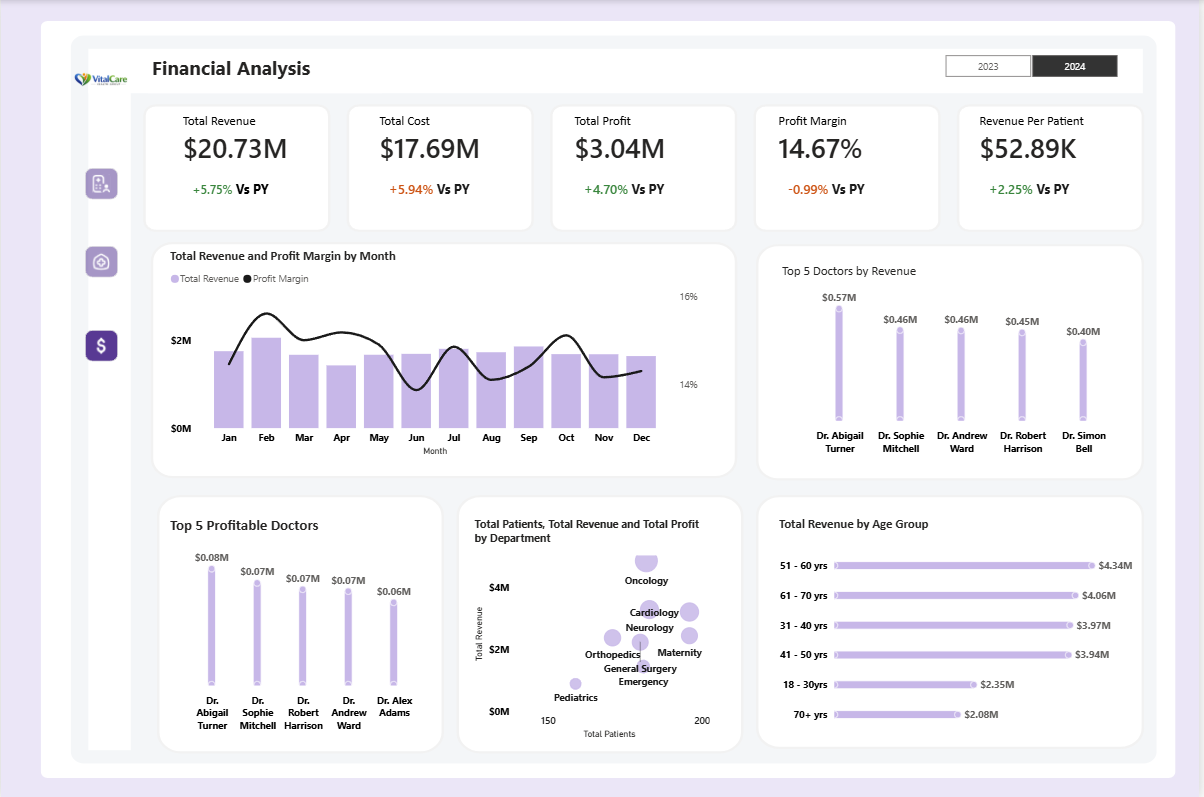

What the dashboard file says about the page in this screenshot:
{"tool":"powerbi","page":{"name":"Financial Analysis","canvas":[1500,1000],"ordinal":2},"visuals":[{"type":"actionButton","box":[105.1,210.3,41.3,39.4],"z":0},{"type":"actionButton","box":[105.1,307.9,41.3,39.4],"z":1000},{"type":"actionButton","box":[105.1,413,41.3,39.4],"z":2000},{"type":"image","box":[83.7,62.8,83.7,80],"z":3000},{"type":"slicer","fields":{"Values":["Dim Date.Year"]},"box":[1156.5,62,264.7,41.3],"z":3002},{"type":"cardVisual","fields":{"Data":["Measures_Table.Total Revenue"]},"box":[206.5,131.4,193.4,146.4],"z":3003},{"type":"cardVisual","fields":{"Data":["Measures_Table.Profit Margin"]},"box":[972.5,131.4,184,146.4],"z":3004},{"type":"cardVisual","fields":{"Data":["Measures_Table.Revenue Per Patient"]},"box":[1203.4,131.4,200.9,146.4],"z":3005},{"type":"cardVisual","fields":{"Data":["Measures_Table.Total Profit"]},"box":[696.5,142.7,195.2,135.2],"z":3006},{"type":"cardVisual","fields":{"Data":["Measures_Table.Total Cost"]},"box":[452.4,131.4,204.6,146.4],"z":3007},{"type":"lineStackedColumnComboChart","fields":{"Category":["Dim Date.Month"],"Y":["Measures_Table.Total Revenue"],"Y2":["Measures_Table.Profit Margin"]},"box":[206.5,309.8,672.1,264.7],"z":3008},{"type":"clusteredBarChart","fields":{"Category":["Dim Patient.Age Group"],"Y":["Measures_Table.Total Revenue"]},"box":[968.7,645.8,452.4,283.5],"z":3009},{"type":"clusteredColumnChart","title":"Top 5 Doctors by Revenue","fields":{"Category":["Dim Doctor.DoctorName"],"Y":["Measures_Table.Total Revenue"]},"box":[972.5,328.5,448.7,247.8],"z":3010},{"type":"clusteredColumnChart","title":"Top 5 Profitable Doctors","fields":{"Category":["Dim Doctor.DoctorName"],"Y":["Measures_Table.Total Profit"]},"box":[206.5,645.8,336.1,277.9],"z":3011},{"type":"scatterChart","title":"Total Patients, Total Revenue and Total Profit by Department","fields":{"Category":["Dim Department.DepartmentName"],"Size":["Measures_Table.Total Profit"],"X":["Measures_Table.Total Patients"],"Y":["Measures_Table.Total Revenue"]},"box":[587.6,645.8,304.1,283.5],"z":3012},{"type":"textbox","box":[184,62,292.9,54.4],"z":3013}]}

Visuals, with their boxes in screenshot pixels (x1, y1, x2, y2), scaled from the page's 1500x1000 canvas onto the 1204x797 screenshot:
actionButton: rect(84, 168, 118, 199)
actionButton: rect(84, 245, 118, 277)
actionButton: rect(84, 329, 118, 361)
image: rect(67, 50, 134, 114)
slicer - Dim Date.Year: rect(928, 49, 1141, 82)
cardVisual - Measures_Table.Total Revenue: rect(166, 105, 321, 221)
cardVisual - Measures_Table.Profit Margin: rect(781, 105, 928, 221)
cardVisual - Measures_Table.Revenue Per Patient: rect(966, 105, 1127, 221)
cardVisual - Measures_Table.Total Profit: rect(559, 114, 716, 221)
cardVisual - Measures_Table.Total Cost: rect(363, 105, 527, 221)
lineStackedColumnComboChart - Dim Date.Month x Measures_Table.Total Revenue: rect(166, 247, 705, 458)
clusteredBarChart - Dim Patient.Age Group x Measures_Table.Total Revenue: rect(778, 515, 1141, 741)
"Top 5 Doctors by Revenue" clusteredColumnChart: rect(781, 262, 1141, 459)
"Top 5 Profitable Doctors" clusteredColumnChart: rect(166, 515, 436, 736)
"Total Patients, Total Revenue and Total Profit by Department" scatterChart: rect(472, 515, 716, 741)
textbox: rect(148, 49, 383, 93)
